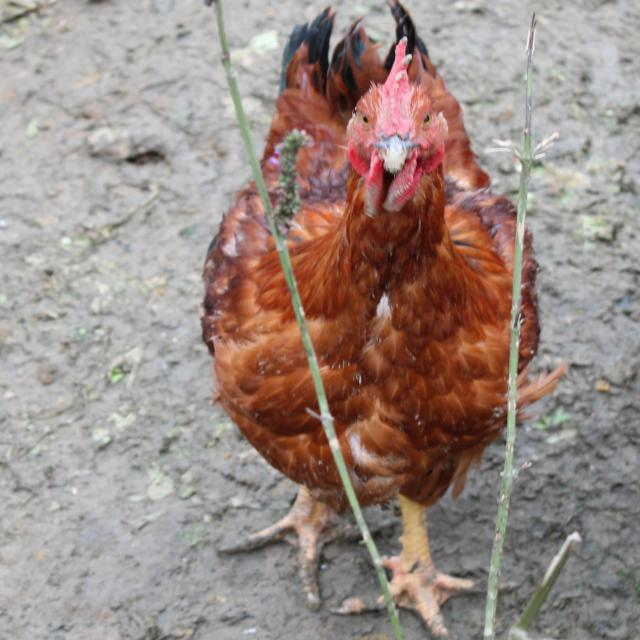cook: (174, 178, 366, 619), (517, 236, 573, 411)
